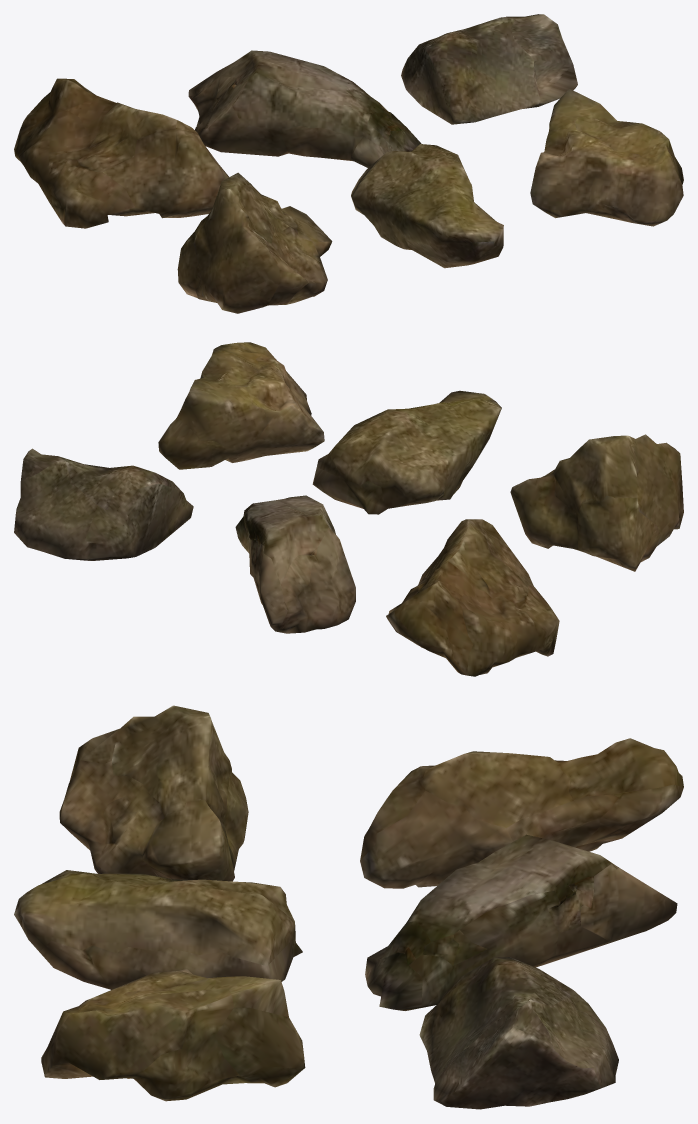
Rendered from rock_moss_set_01.glb.
The picture shows the model from 3 angles, top to bottom: view 1: azimuth 30°, elevation 25°; view 2: azimuth 150°, elevation 25°; view 3: azimuth 270°, elevation 25°; orthographic projection. The views are drawn at different scales.
Visible parts, largest first — view 1: rock_moss_set_01_rock01; view 2: rock_moss_set_01_rock01; view 3: rock_moss_set_01_rock01.
Part boxes in pixels (x1,y1,x2,y2): rock_moss_set_01_rock01: (14, 14, 683, 313); rock_moss_set_01_rock01: (14, 342, 683, 676); rock_moss_set_01_rock01: (14, 705, 683, 1109).
Bounding box in the file's own units: 8 × 1.72 × 6.94.
1 material, 1 textured.
